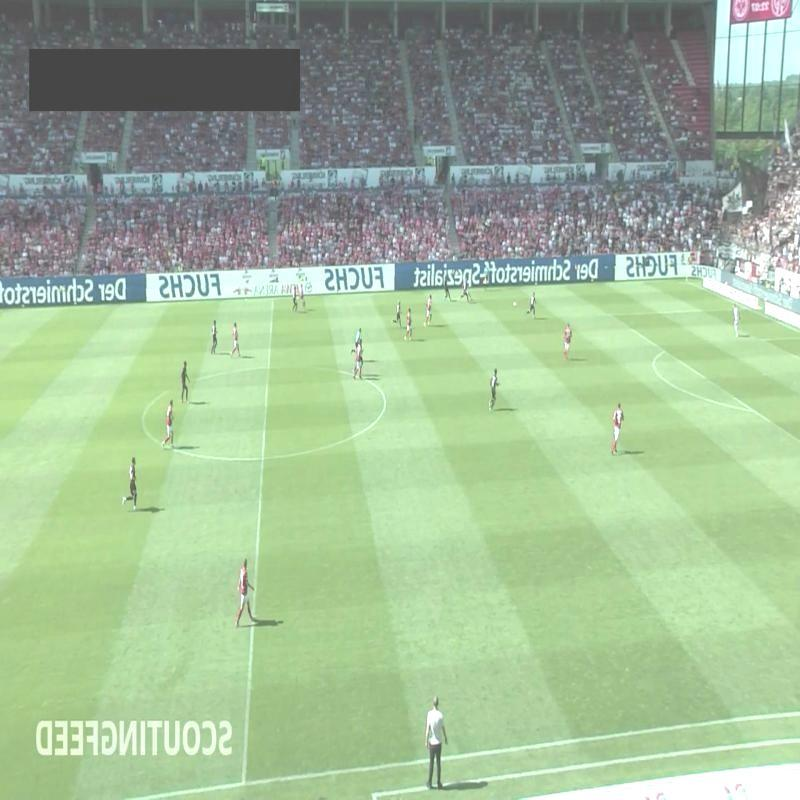1: (680, 276, 694, 290)
10: (654, 342, 676, 362)
11: (744, 401, 768, 420)
13: (265, 292, 279, 306)
14: (262, 357, 276, 371)
15: (256, 449, 270, 463)
16: (236, 774, 252, 792)
2: (740, 302, 754, 316)
7: (754, 332, 768, 345)
9: (603, 307, 617, 321)
c: (133, 404, 152, 426), (375, 390, 395, 408)
